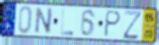0: (17, 5, 34, 35)
6: (79, 9, 97, 38)
L: (60, 8, 75, 37)
N: (33, 7, 54, 35)
P: (102, 10, 122, 38)
Z: (122, 10, 143, 41)
